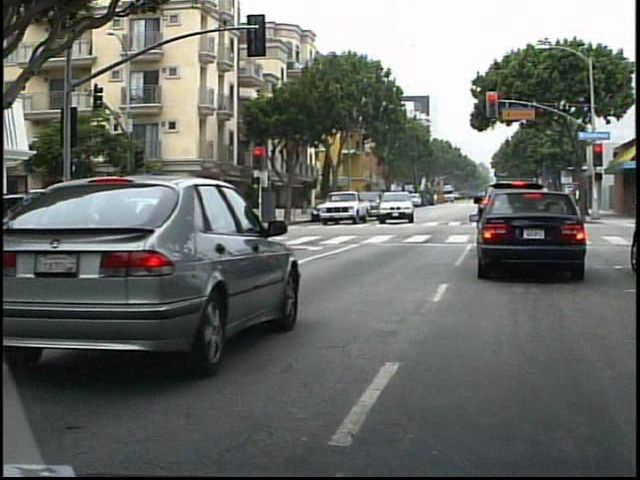person: (143, 191, 161, 236), (163, 193, 180, 234)
